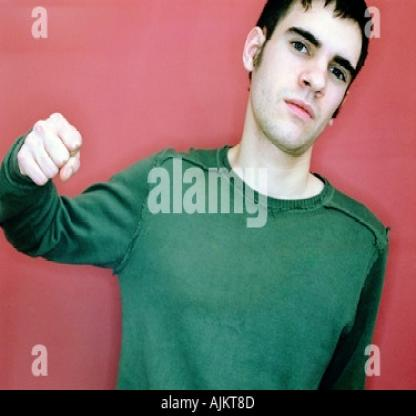fist: (13, 104, 92, 195)
